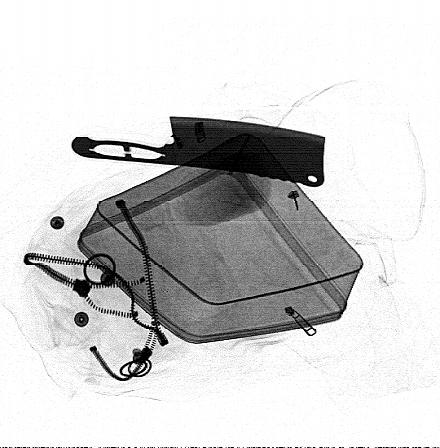Knife: (71, 116, 325, 188)
